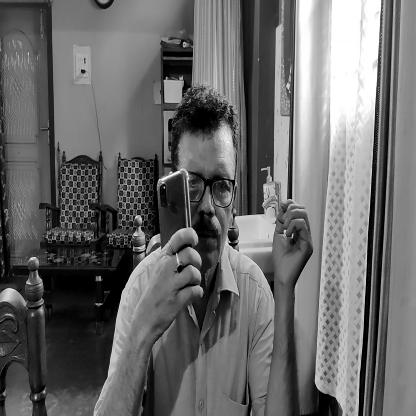Normal: (190, 94, 237, 265)
